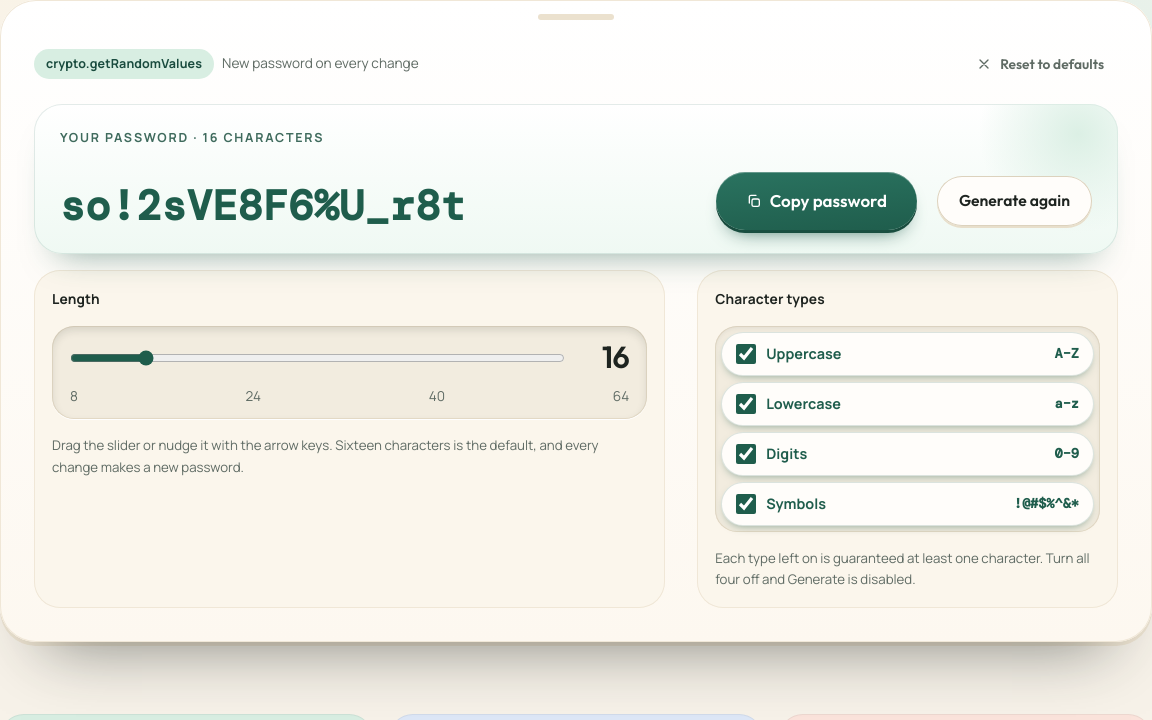
PasswordGenerator › tells the visitor to copy by hand when the clipboard refuses
This screenshot has width=1152, height=720.
Click the button "Copy password": (816, 201) [716, 172, 917, 230]
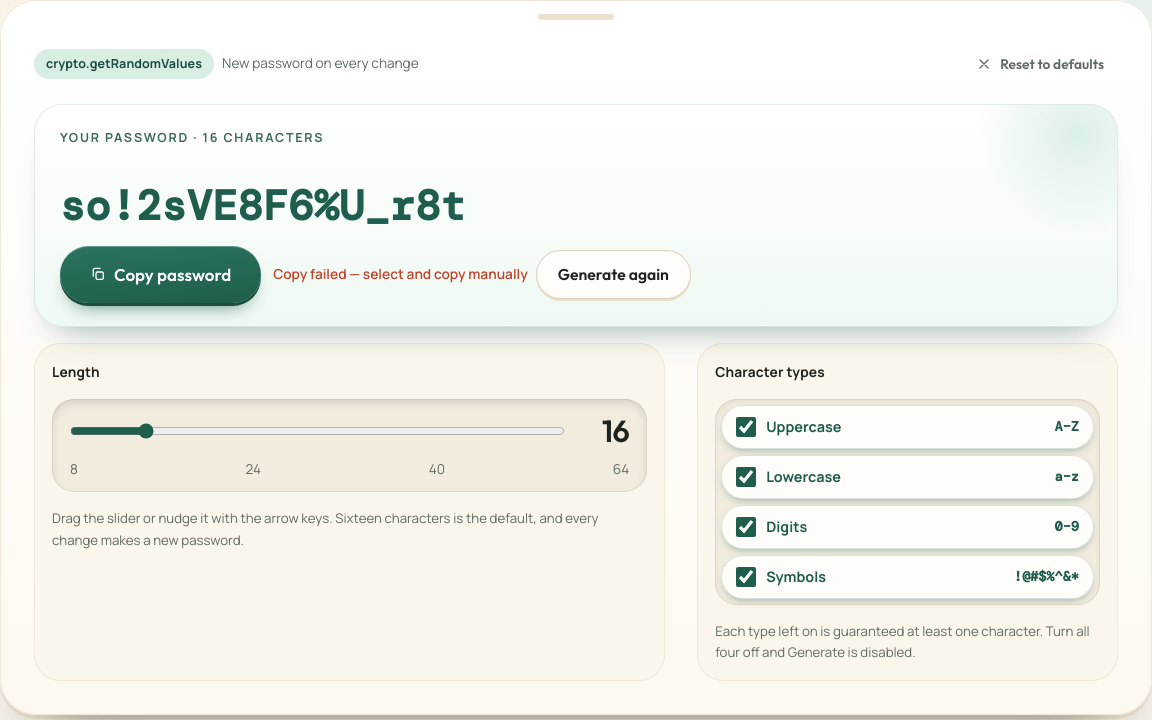
Now the text "Copy failed — select and copy manually" is shown, box [273, 263, 528, 285]
